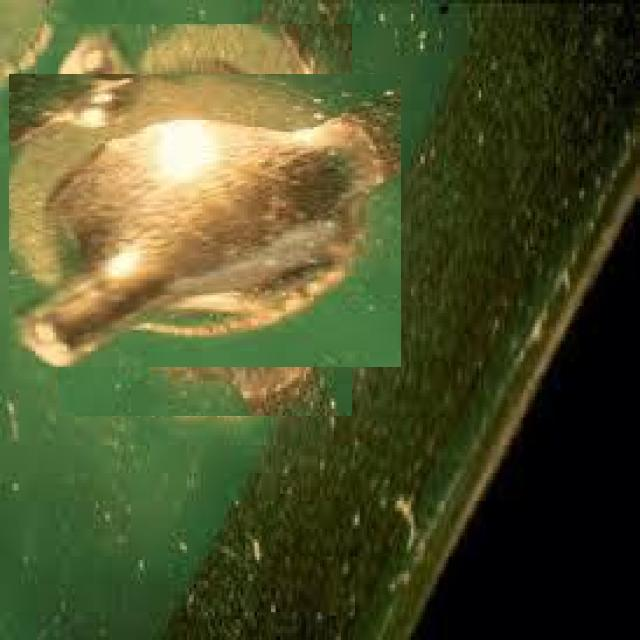redundant: (9, 73, 401, 367)
